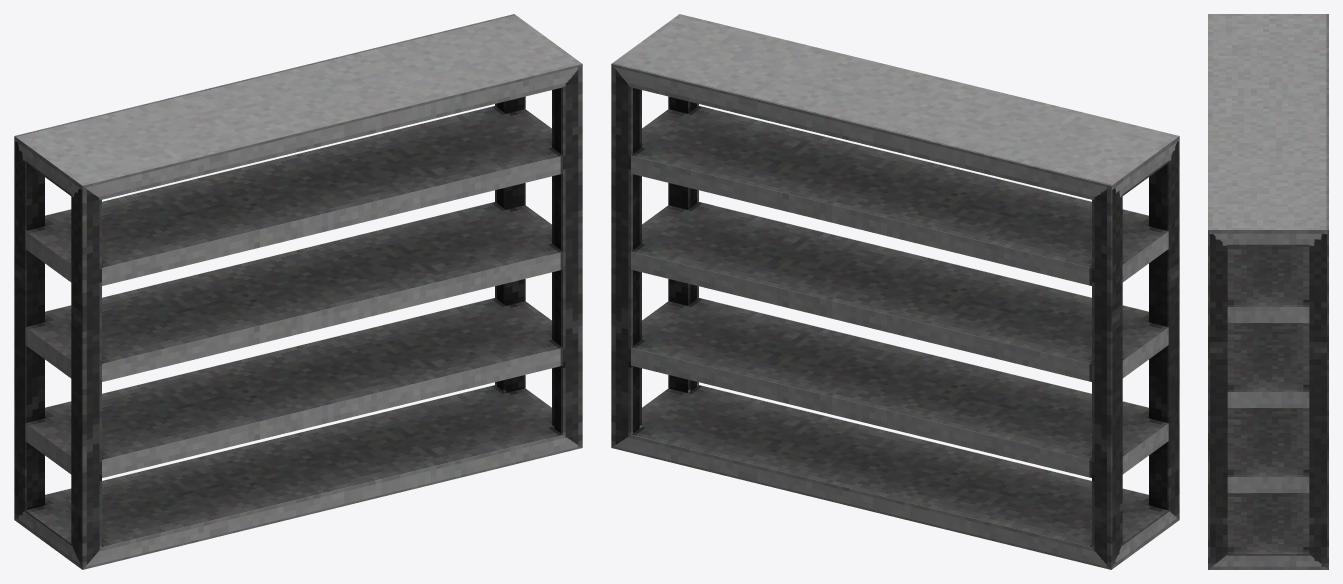
The model's file is Shelf.fbx.
The picture shows the model from 3 angles, left to right: view 1: azimuth 30°, elevation 25°; view 2: azimuth 150°, elevation 25°; view 3: azimuth 270°, elevation 25°; orthographic projection. The views are drawn at different scales.
Visible parts, largest first — view 1: Shelf.001; view 2: Shelf.001; view 3: Shelf.001.
Part boxes in pixels (box(x1,y1,x2,y2)): Shelf.001: box(14, 14, 582, 569); Shelf.001: box(611, 14, 1179, 569); Shelf.001: box(1208, 14, 1328, 569).
Bounding box in the file's own units: 273 × 200 × 64.38.
